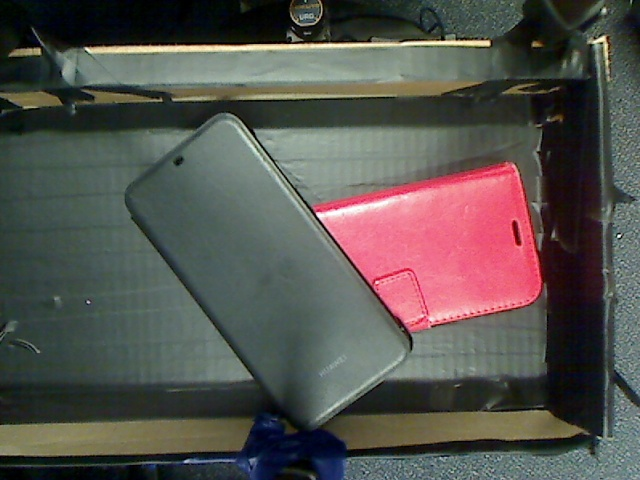phone: (119, 114, 433, 422), (290, 145, 547, 352)
